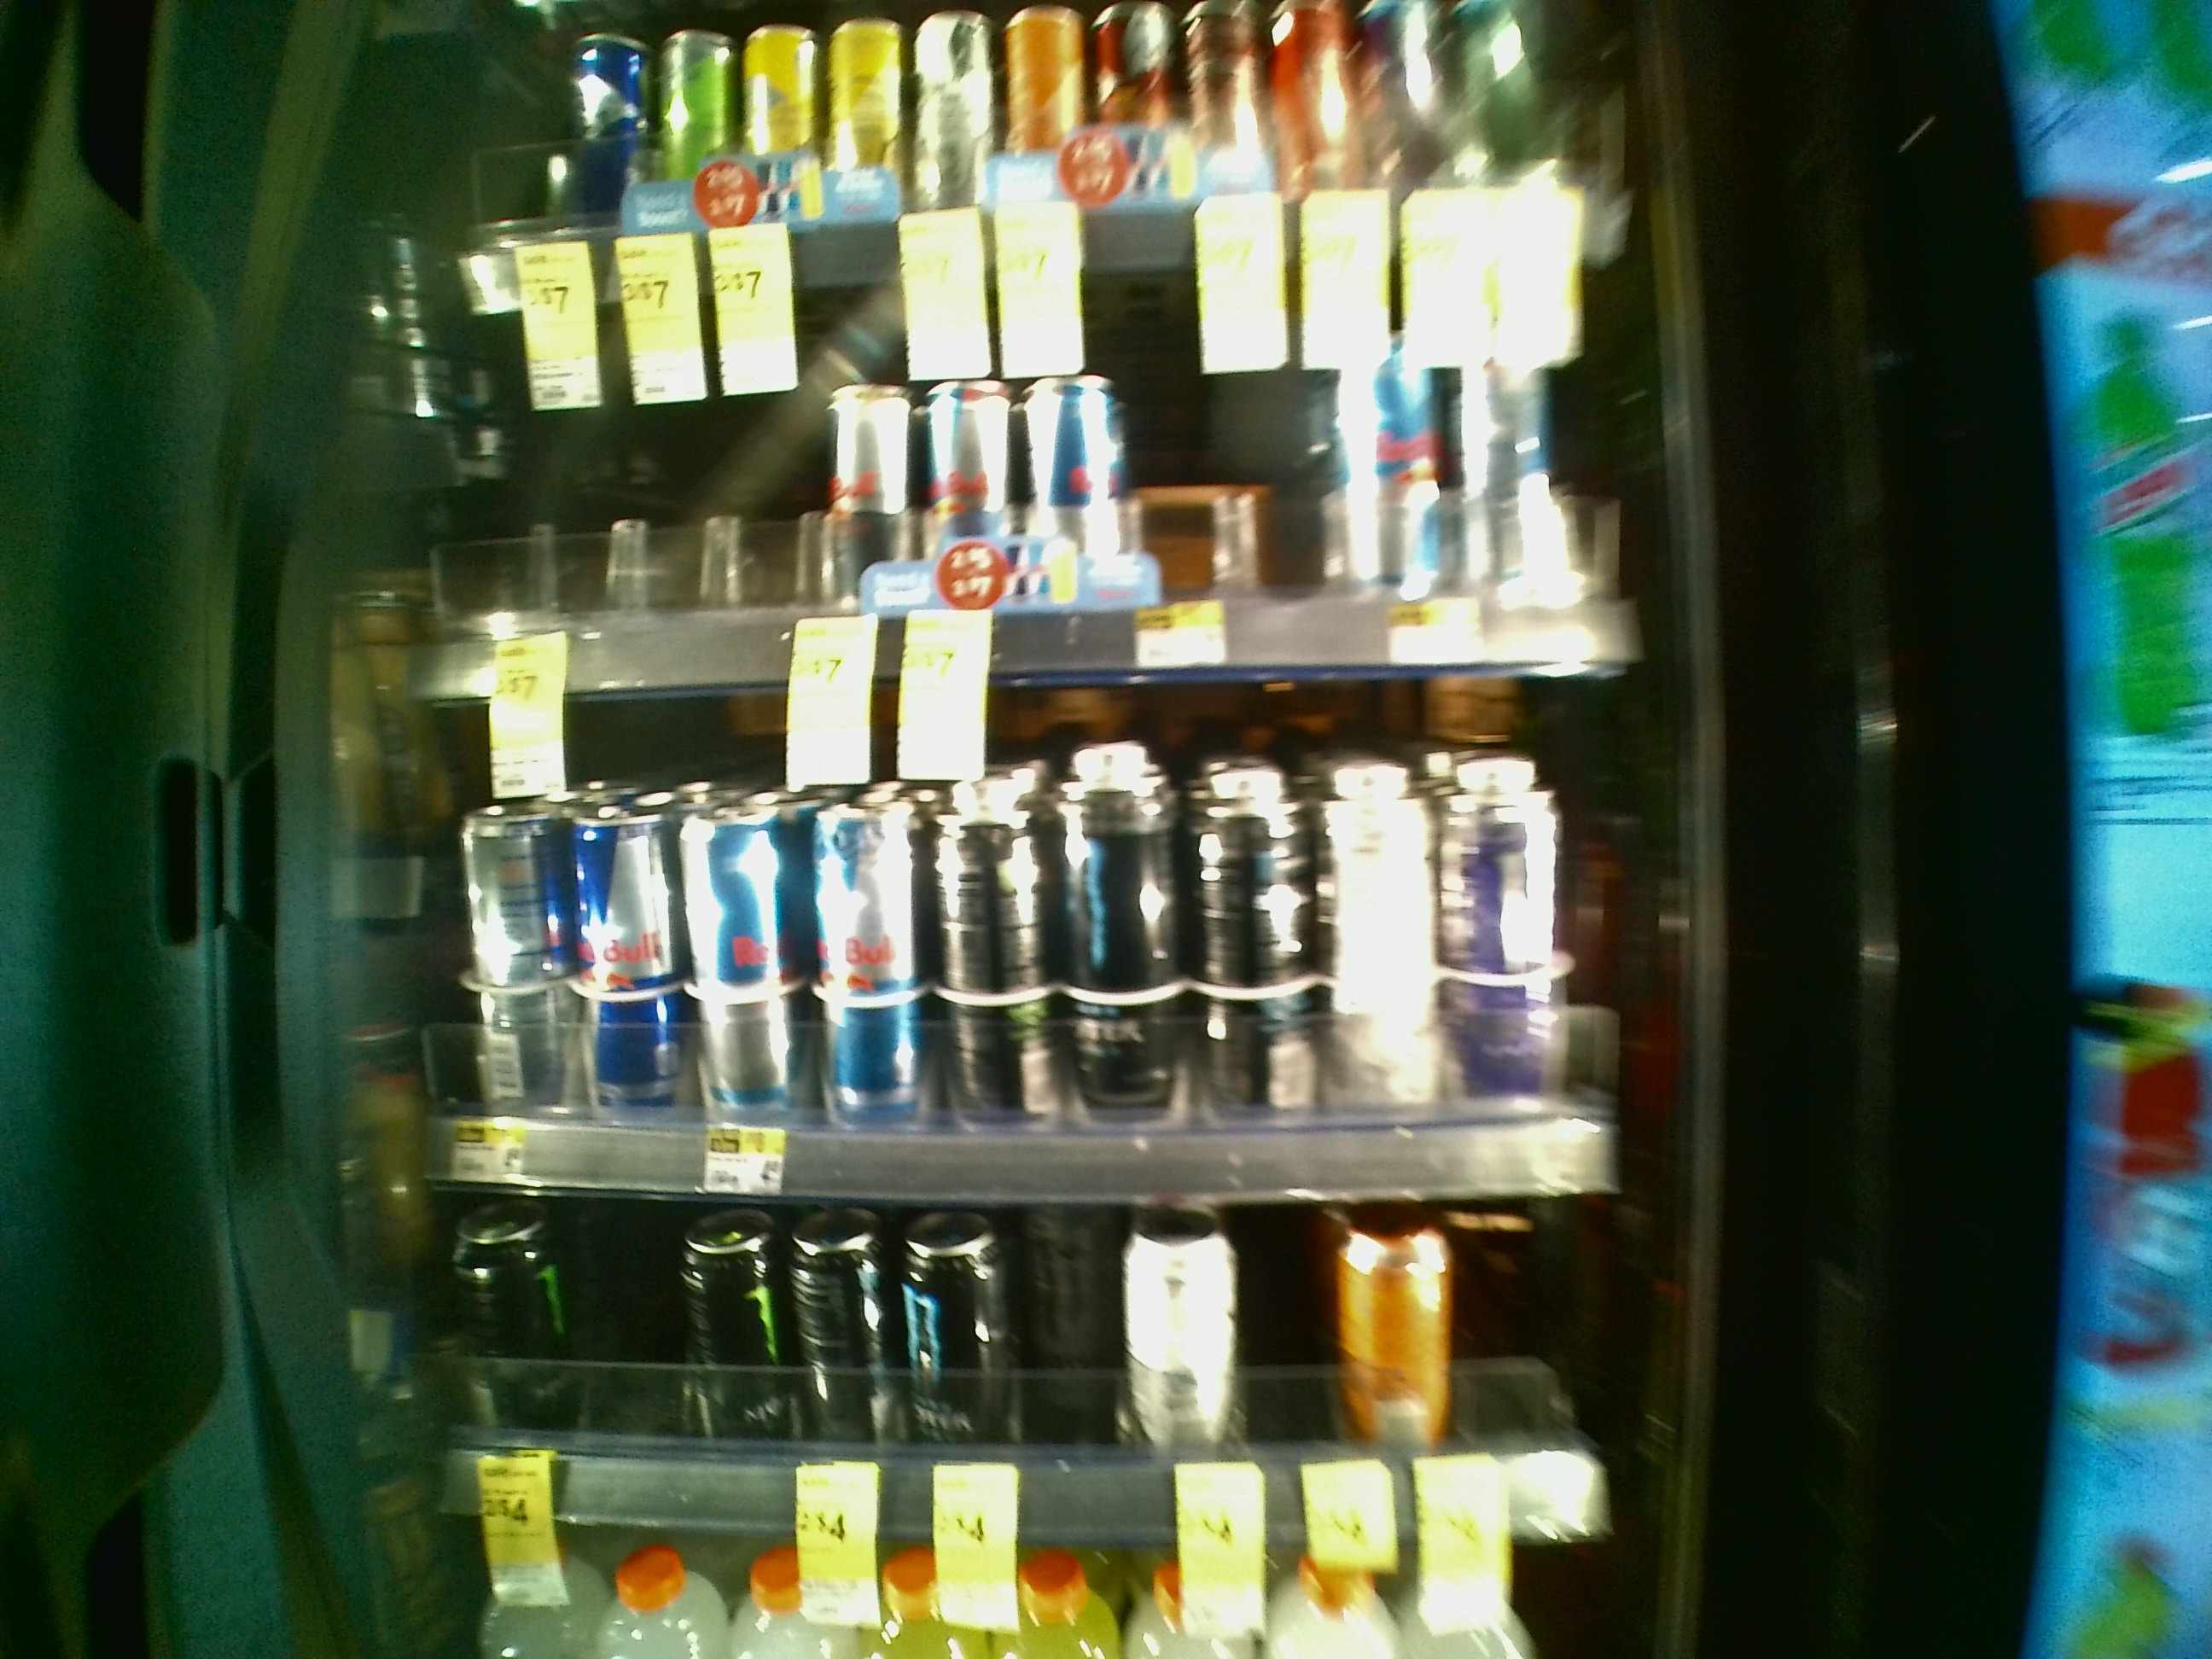shelf: (369, 653, 1700, 1175), (354, 1126, 1709, 1518)
